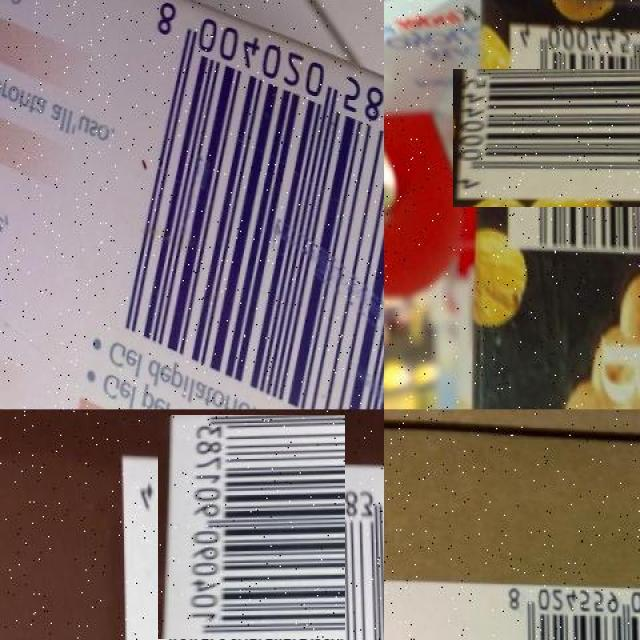Barcode: (86, 0, 384, 409), (139, 433, 364, 640), (477, 44, 640, 230), (498, 577, 640, 639)
